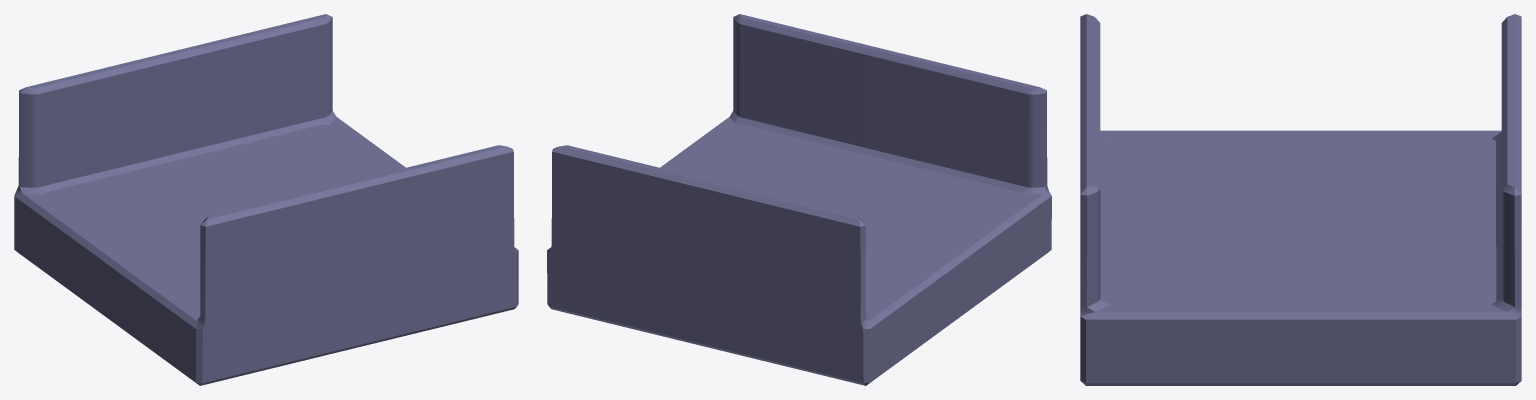
Rendered from Elevador.fbx.
3 views of the same model, side by side, from view 1: azimuth 30°, elevation 25°; view 2: azimuth 150°, elevation 25°; view 3: azimuth 270°, elevation 25° (orthographic). The views are drawn at different scales.
Parts seen in each view (by area): view 1: pCube1; view 2: pCube1; view 3: pCube1.
Part boxes in pixels (x1,y1,x2,y2): pCube1: (14,14,518,385); pCube1: (547,14,1051,385); pCube1: (1080,14,1521,385).
Bounding box in the file's own units: 2.41 × 1.17 × 2.41.
